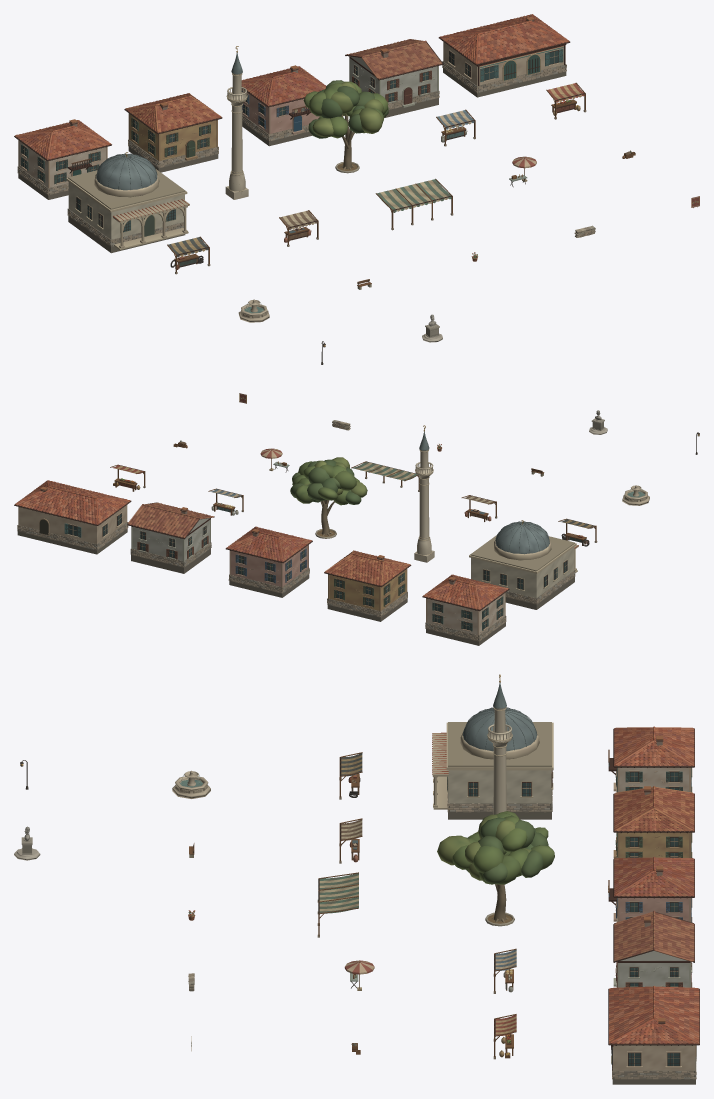
The model's file is village.glb.
3 renders of one model, top to bottom at view 1: azimuth 30°, elevation 25°; view 2: azimuth 150°, elevation 25°; view 3: azimuth 270°, elevation 25°, orthographic. The views are drawn at different scales.
Visible parts, largest first — view 1: Village mosque painted mesh, Coffeehouse painted mesh, Ochre house painted mesh, Stone house painted mesh, Whitewashed house painted mesh, Rose house painted mesh, Square plane tree painted mesh, Mosque minaret painted mesh, Market kahvehane painted mesh, Market usta painted mesh, Market bakkal painted mesh, Market muze painted mesh (+2 smaller); view 2: Village mosque painted mesh, Coffeehouse painted mesh, Stone house painted mesh, Ochre house painted mesh, Rose house painted mesh, Whitewashed house painted mesh, Square plane tree painted mesh, Mosque minaret painted mesh, Market kahvehane painted mesh, Market usta painted mesh, Square fountain painted mesh, Market bakkal painted mesh (+2 smaller); view 3: Village mosque painted mesh, Coffeehouse painted mesh, Square plane tree painted mesh, Stone house painted mesh, Ochre house painted mesh, Whitewashed house painted mesh, Rose house painted mesh, Mosque minaret painted mesh, Market kahvehane painted mesh, Square fountain painted mesh, Market usta painted mesh, Market bakkal painted mesh (+2 smaller).
Part boxes in pixels (<box>): Village mosque painted mesh: <box>66,152,189,253</box>; Coffeehouse painted mesh: <box>438,14,570,97</box>; Ochre house painted mesh: <box>124,93,222,172</box>; Stone house painted mesh: <box>345,39,443,117</box>; Whitewashed house painted mesh: <box>14,119,111,199</box>; Rose house painted mesh: <box>241,65,326,146</box>; Square plane tree painted mesh: <box>303,80,388,173</box>; Mosque minaret painted mesh: <box>225,46,248,199</box>; Market kahvehane painted mesh: <box>375,178,453,230</box>; Market usta painted mesh: <box>167,236,210,274</box>; Market bakkal painted mesh: <box>546,82,586,119</box>; Market muze painted mesh: <box>279,210,318,246</box>; Village mosque painted mesh: <box>469,520,578,609</box>; Coffeehouse painted mesh: <box>14,480,131,554</box>; Stone house painted mesh: <box>127,502,214,573</box>; Ochre house painted mesh: <box>324,550,411,621</box>; Rose house painted mesh: <box>225,526,312,597</box>; Whitewashed house painted mesh: <box>422,574,509,645</box>; Square plane tree painted mesh: <box>290,457,367,538</box>; Mosque minaret painted mesh: <box>414,425,434,562</box>; Market kahvehane painted mesh: <box>351,461,419,491</box>; Market usta painted mesh: <box>558,518,597,546</box>; Square fountain painted mesh: <box>622,485,649,505</box>; Market bakkal painted mesh: <box>110,464,145,491</box>; Village mosque painted mesh: <box>432,707,553,819</box>; Coffeehouse painted mesh: <box>608,986,699,1084</box>; Square plane tree painted mesh: <box>437,811,554,926</box>; Stone house painted mesh: <box>613,910,694,987</box>; Ochre house painted mesh: <box>613,786,694,858</box>; Whitewashed house painted mesh: <box>608,726,694,792</box>; Rose house painted mesh: <box>608,857,694,922</box>; Mosque minaret painted mesh: <box>487,674,512,814</box>; Market kahvehane painted mesh: <box>317,872,358,937</box>; Square fountain painted mesh: <box>172,770,210,798</box>; Market usta painted mesh: <box>339,752,362,799</box>; Market bakkal painted mesh: <box>493,1014,516,1059</box>.
Bounding box in the file's own units: 71.64 × 20.22 × 66.73.
